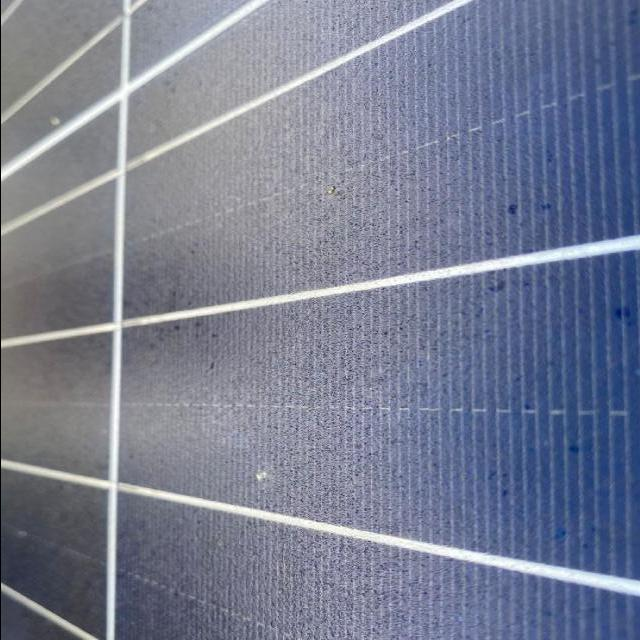soiled: (108, 0, 640, 636)
